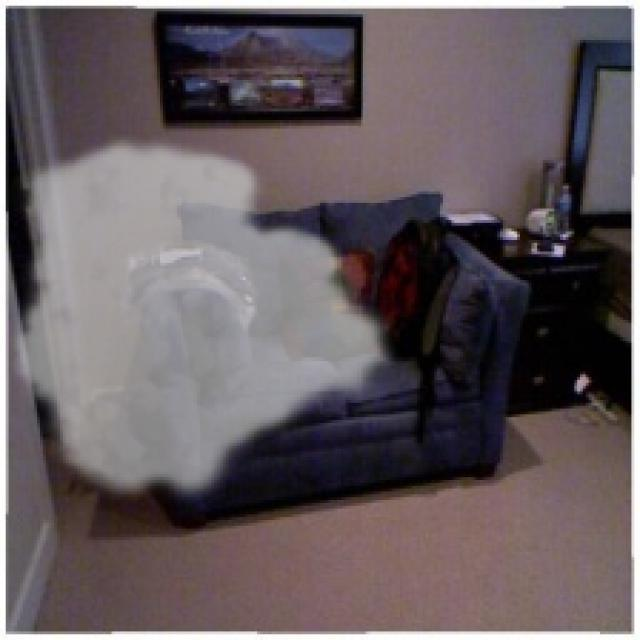Smoke: (8, 134, 400, 509)
